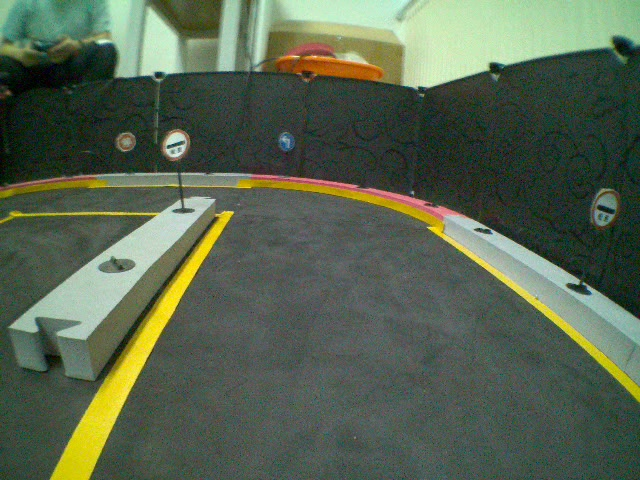Check: (588, 187, 622, 229), (161, 126, 190, 160)
Stop: (115, 130, 137, 152)
turn: (276, 130, 294, 154)
